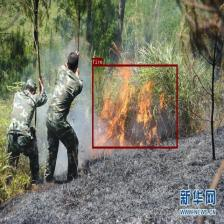fire: (92, 64, 177, 148)
